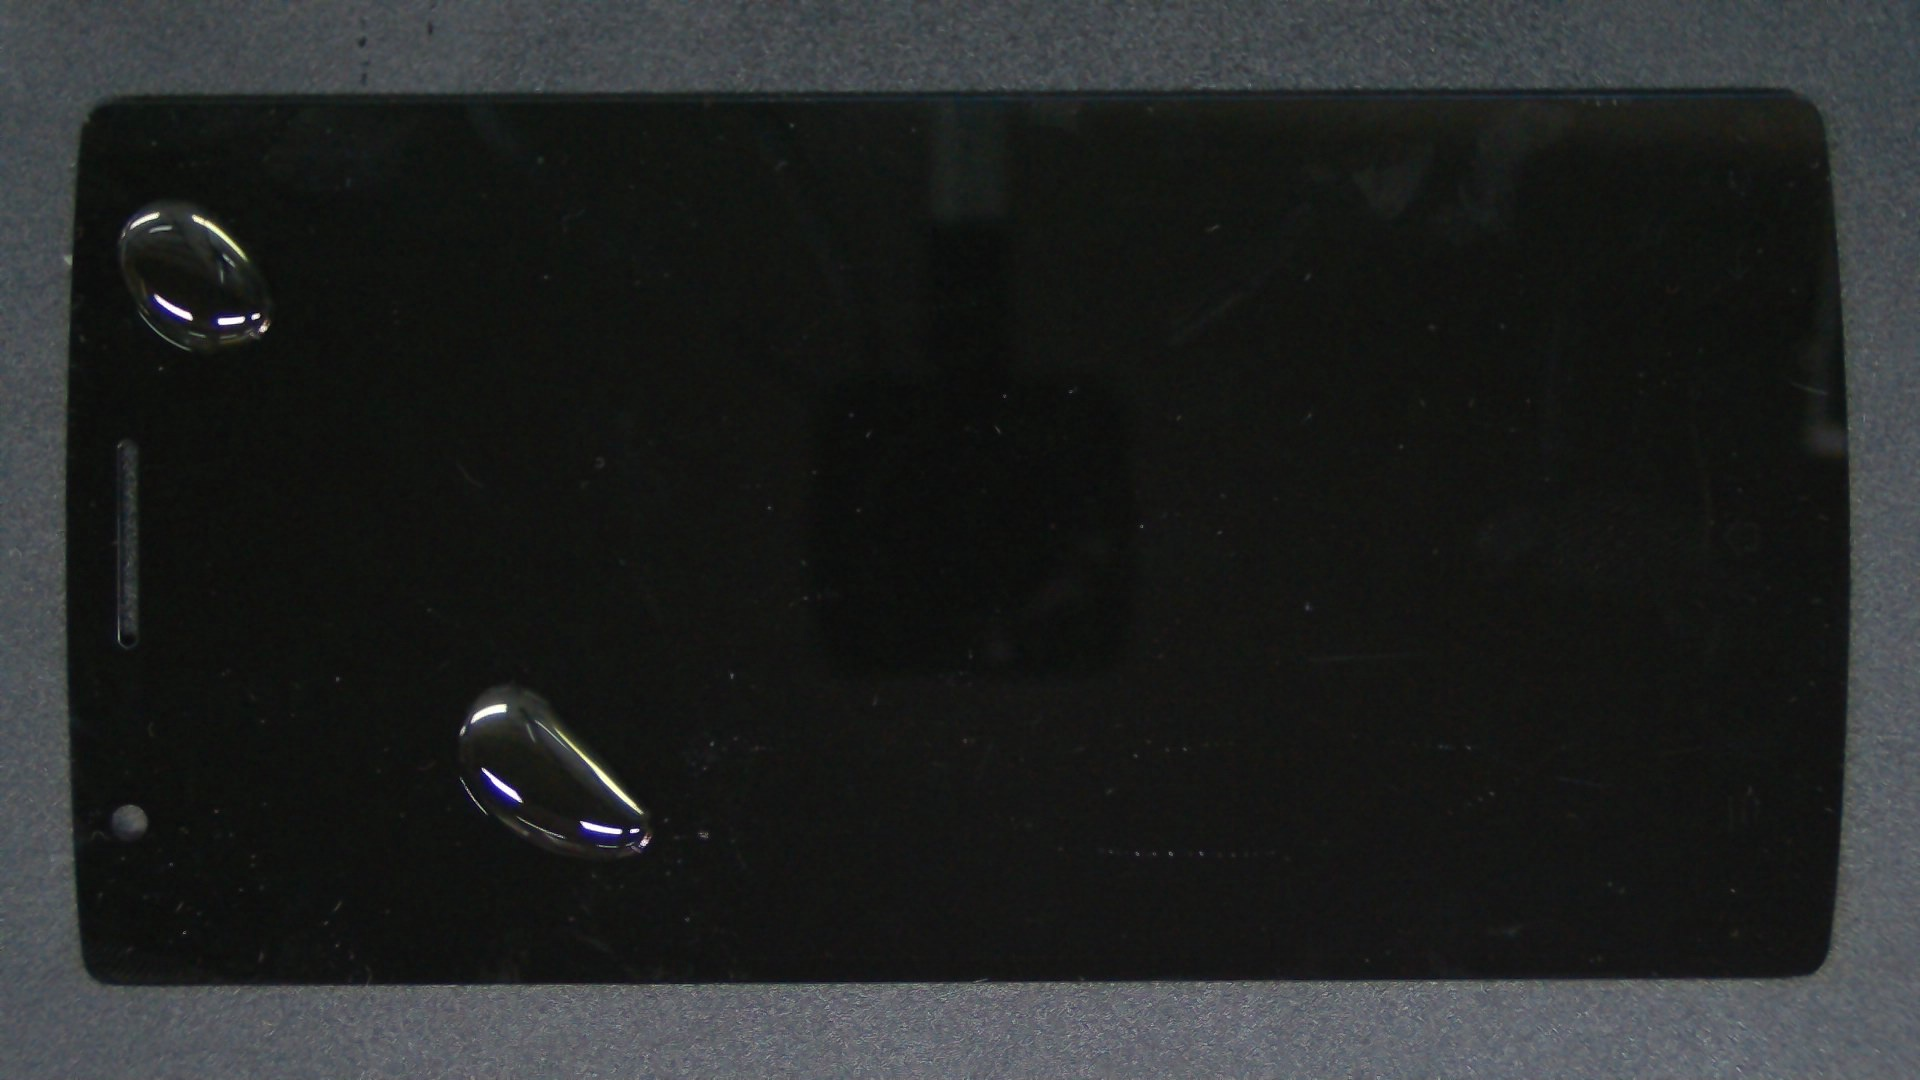oil: (255, 342, 760, 1025), (83, 99, 247, 301)
